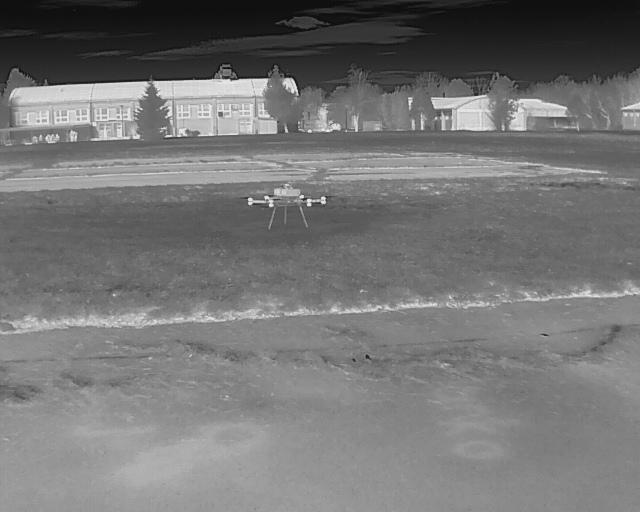drone: (239, 174, 329, 226)
